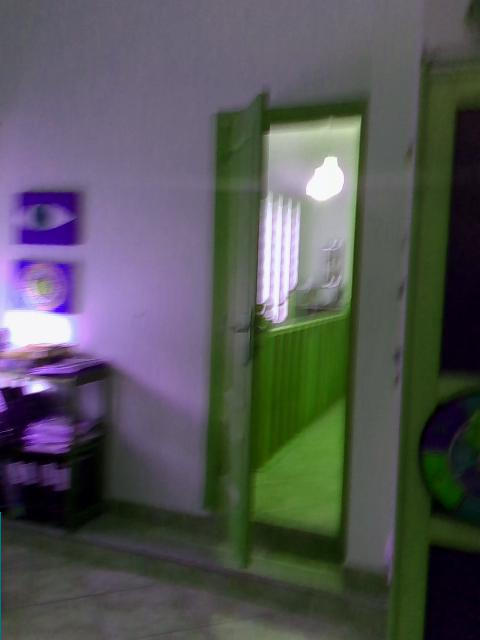semi_door: (203, 83, 371, 571)
